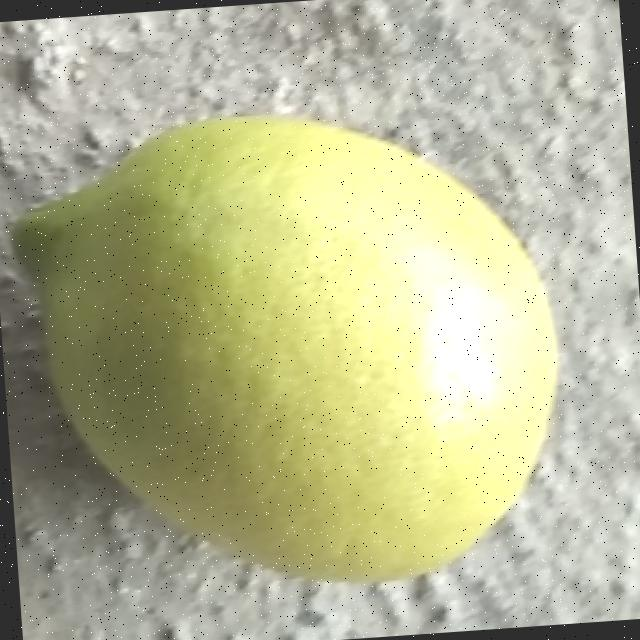Lemon: (0, 90, 572, 607)
